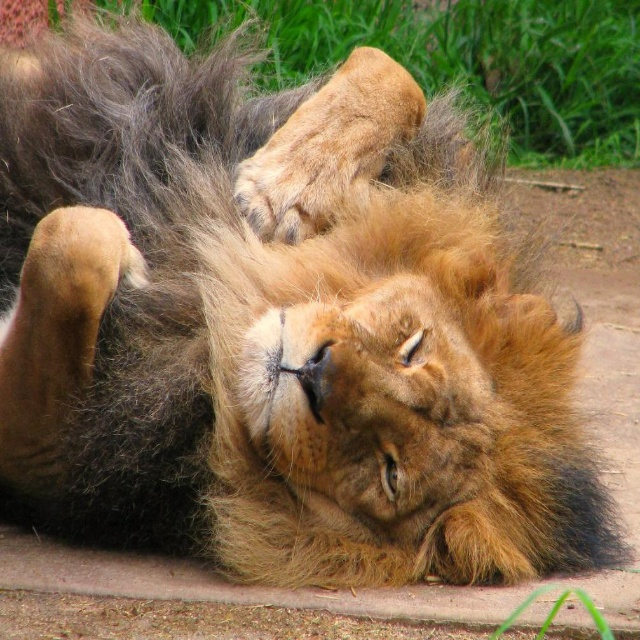Lion: (0, 2, 636, 589)
